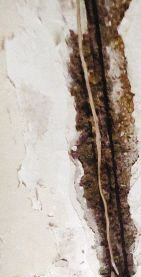Corrosion: (64, 1, 141, 277)
Exposed reinforcement: (92, 1, 130, 277)
